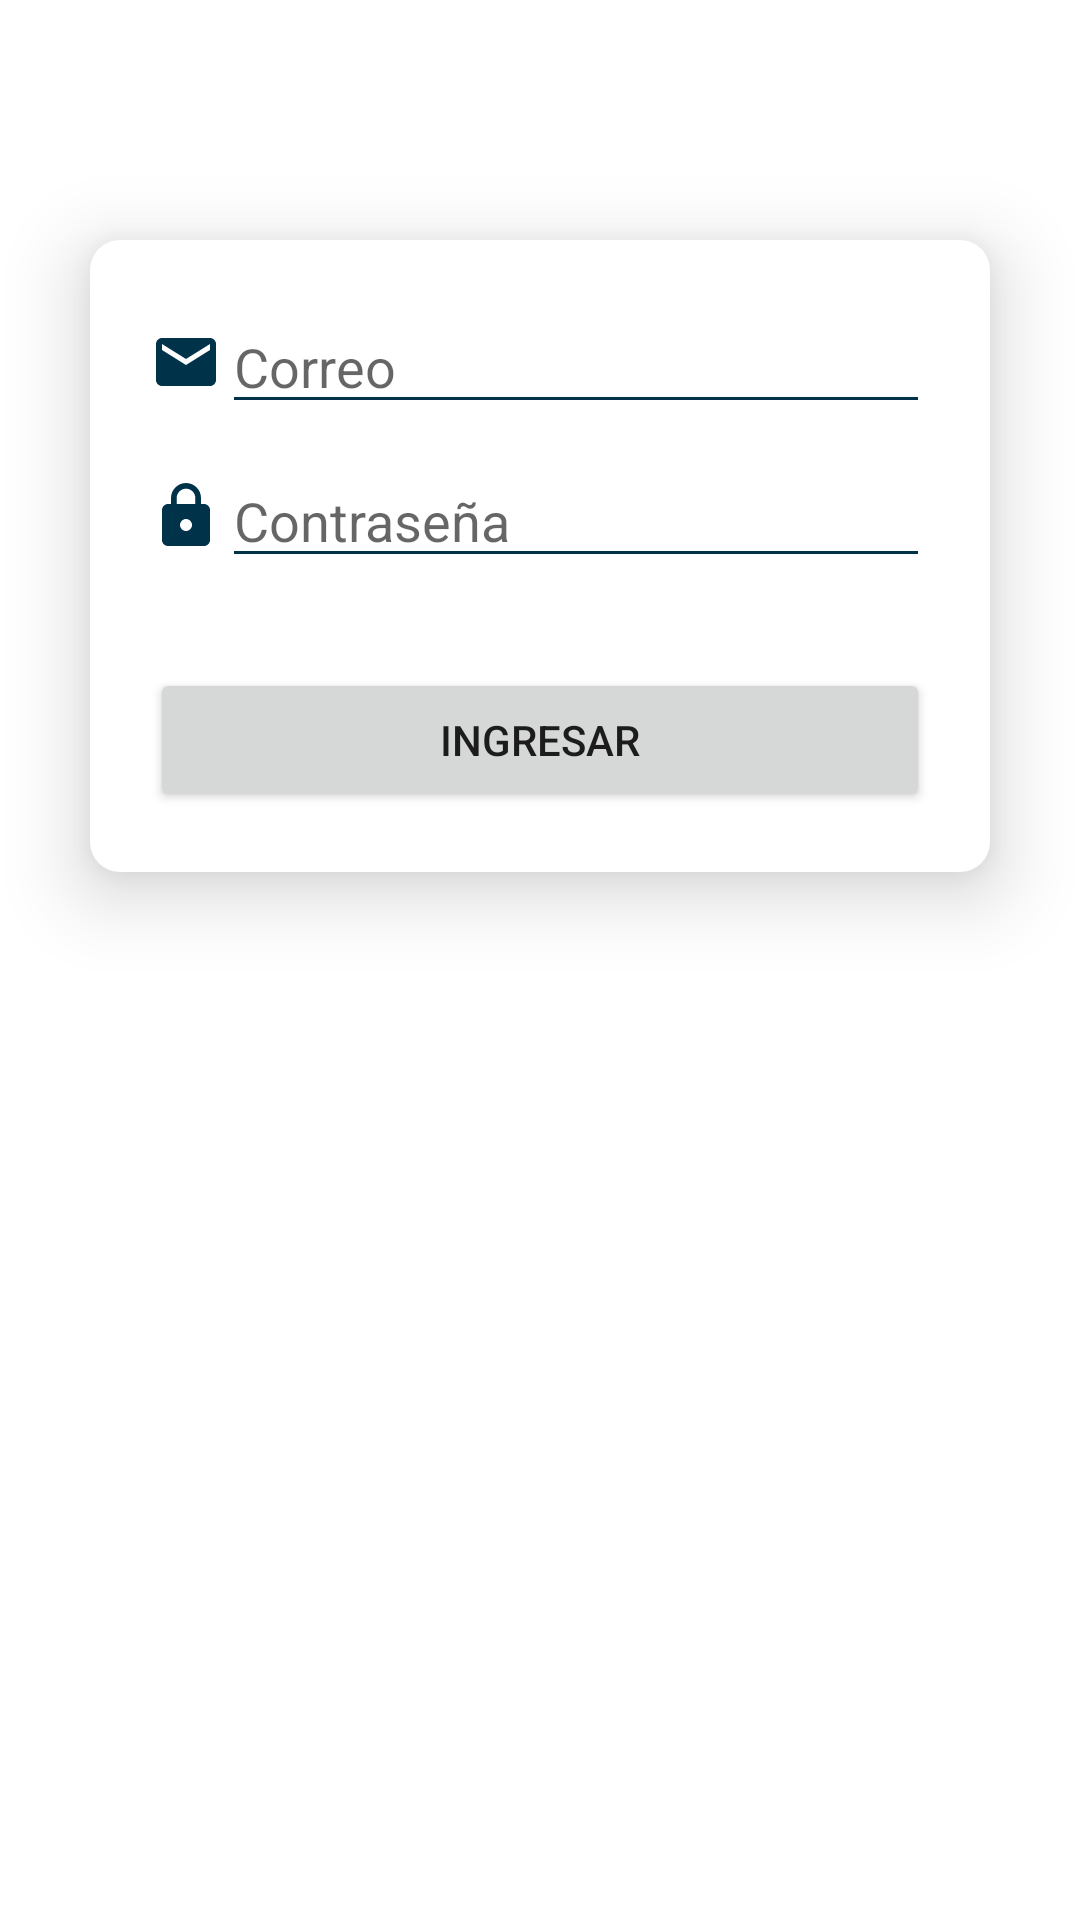

Point at icon controls on the screen. Image size 1080×1920, points as (x,y).
email: (186,362)
password: (186,514)
